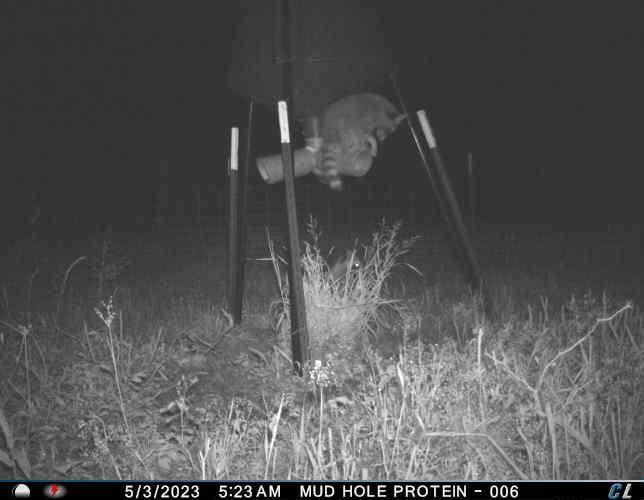Raccoon: (316, 91, 406, 192), (331, 244, 366, 296)
